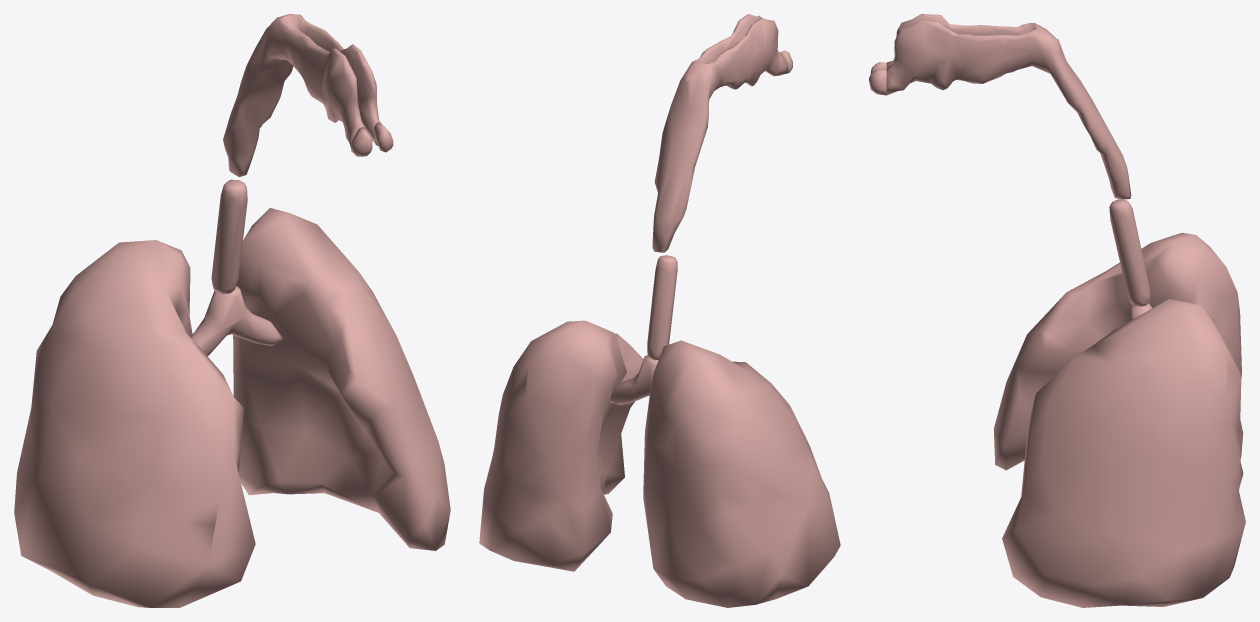
The model's file is pediatric_infant_female.respiratory.LOD2.glb.
3 views of the same model, side by side, from view 1: azimuth 30°, elevation 25°; view 2: azimuth 150°, elevation 25°; view 3: azimuth 270°, elevation 25° (orthographic). The views are drawn at different scales.
Visible parts, largest first — view 1: PEDIATRIC.INFANT.FEMALE.RESPIRATORY.LUNG.R, PEDIATRIC.INFANT.FEMALE.RESPIRATORY.LUNG.L, PEDIATRIC.INFANT.FEMALE.RESPIRATORY.ET2, PEDIATRIC.INFANT.FEMALE.RESPIRATORY.BB1, PEDIATRIC.INFANT.FEMALE.RESPIRATORY.TRACHEA, PEDIATRIC.INFANT.FEMALE.RESPIRATORY.ET1; view 2: PEDIATRIC.INFANT.FEMALE.RESPIRATORY.LUNG.R, PEDIATRIC.INFANT.FEMALE.RESPIRATORY.LUNG.L, PEDIATRIC.INFANT.FEMALE.RESPIRATORY.ET2, PEDIATRIC.INFANT.FEMALE.RESPIRATORY.TRACHEA, PEDIATRIC.INFANT.FEMALE.RESPIRATORY.BB1; view 3: PEDIATRIC.INFANT.FEMALE.RESPIRATORY.LUNG.L, PEDIATRIC.INFANT.FEMALE.RESPIRATORY.LUNG.R, PEDIATRIC.INFANT.FEMALE.RESPIRATORY.ET2, PEDIATRIC.INFANT.FEMALE.RESPIRATORY.TRACHEA, PEDIATRIC.INFANT.FEMALE.RESPIRATORY.ET1.
Part boxes in pixels (x1=…): PEDIATRIC.INFANT.FEMALE.RESPIRATORY.LUNG.R: x1=14, y1=240, x2=255, y2=607; PEDIATRIC.INFANT.FEMALE.RESPIRATORY.LUNG.L: x1=233, y1=208, x2=450, y2=550; PEDIATRIC.INFANT.FEMALE.RESPIRATORY.ET2: x1=223, y1=14, x2=381, y2=177; PEDIATRIC.INFANT.FEMALE.RESPIRATORY.BB1: x1=191, y1=286, x2=282, y2=356; PEDIATRIC.INFANT.FEMALE.RESPIRATORY.TRACHEA: x1=211, y1=179, x2=247, y2=294; PEDIATRIC.INFANT.FEMALE.RESPIRATORY.ET1: x1=351, y1=122, x2=393, y2=156; PEDIATRIC.INFANT.FEMALE.RESPIRATORY.LUNG.R: x1=643, y1=340, x2=840, y2=607; PEDIATRIC.INFANT.FEMALE.RESPIRATORY.LUNG.L: x1=479, y1=320, x2=643, y2=571; PEDIATRIC.INFANT.FEMALE.RESPIRATORY.ET2: x1=652, y1=14, x2=788, y2=252; PEDIATRIC.INFANT.FEMALE.RESPIRATORY.TRACHEA: x1=647, y1=255, x2=677, y2=360; PEDIATRIC.INFANT.FEMALE.RESPIRATORY.BB1: x1=610, y1=355, x2=658, y2=404; PEDIATRIC.INFANT.FEMALE.RESPIRATORY.LUNG.L: x1=1002, y1=299, x2=1245, y2=607; PEDIATRIC.INFANT.FEMALE.RESPIRATORY.LUNG.R: x1=993, y1=233, x2=1243, y2=470; PEDIATRIC.INFANT.FEMALE.RESPIRATORY.ET2: x1=886, y1=14, x2=1131, y2=199; PEDIATRIC.INFANT.FEMALE.RESPIRATORY.TRACHEA: x1=1109, y1=199, x2=1150, y2=306; PEDIATRIC.INFANT.FEMALE.RESPIRATORY.ET1: x1=869, y1=62, x2=886, y2=95.
Size of the model in its own units: 0.1374 by 0.1929 by 0.1284.
